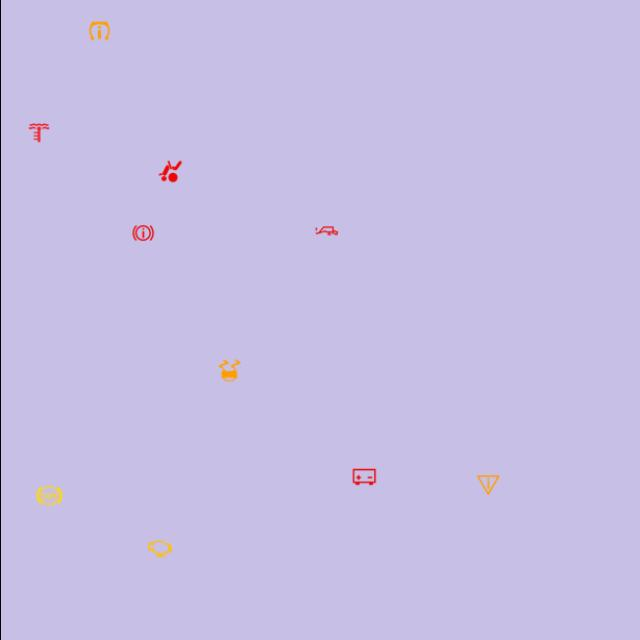Anti Lock Braking System: (34, 482, 62, 509)
Braking System Issue: (128, 219, 156, 247)
Charging System Issue: (350, 463, 378, 491)
Check Engine: (145, 535, 173, 563)
Electronic Stability Problem -ESP-: (215, 356, 243, 384)
Engine Overheating Warning Light: (24, 119, 52, 147)
Low Engine Oil Warning Light: (312, 217, 339, 245)
Low Tire Pressure Warning Light: (84, 16, 112, 44)
Master warning light: (474, 471, 502, 499)
SRS-Airbag: (156, 157, 183, 185)
